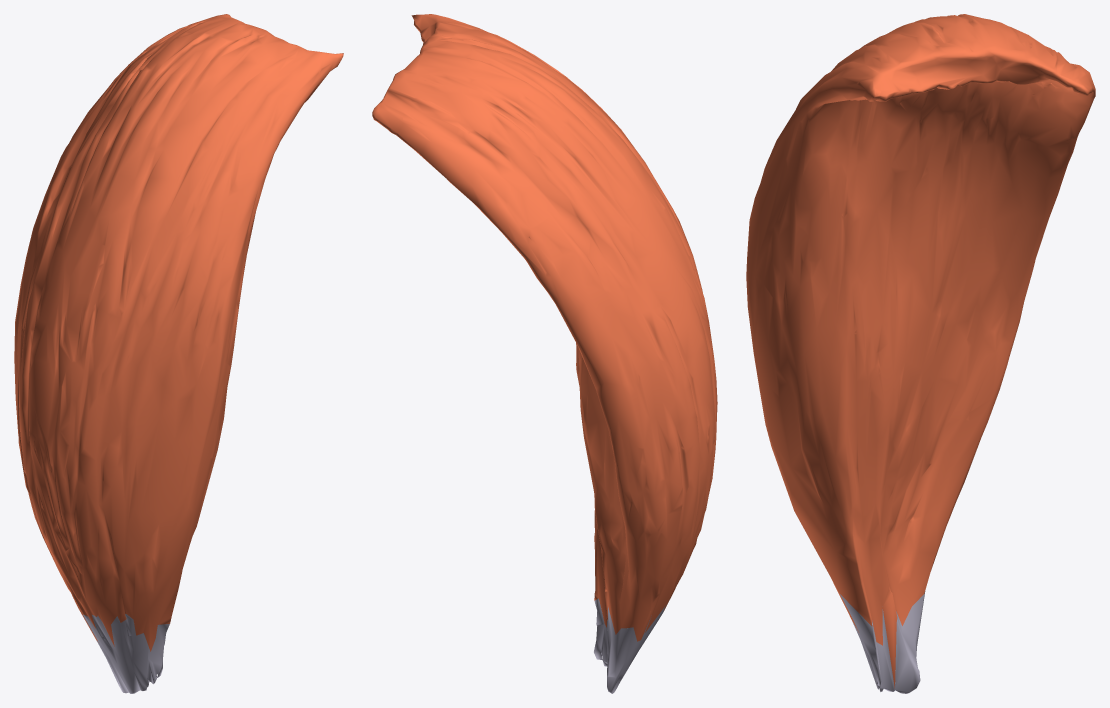
File: Acromial_part_of_deltoid_muscle.r_Generated_Mesh_From_X3D.1014.glb
The picture shows the model from 3 angles, left to right: view 1: azimuth 30°, elevation 25°; view 2: azimuth 150°, elevation 25°; view 3: azimuth 270°, elevation 25°; orthographic projection. The views are drawn at different scales.
Visible parts, largest first — view 1: Acromial_part_of_deltoid_muscle.r_Generated_Mesh_From_X3D.10; view 2: Acromial_part_of_deltoid_muscle.r_Generated_Mesh_From_X3D.10; view 3: Acromial_part_of_deltoid_muscle.r_Generated_Mesh_From_X3D.10.
Part boxes in pixels (x1,y1,x2,y2): Acromial_part_of_deltoid_muscle.r_Generated_Mesh_From_X3D.10: (14,14,343,693); Acromial_part_of_deltoid_muscle.r_Generated_Mesh_From_X3D.10: (372,14,717,693); Acromial_part_of_deltoid_muscle.r_Generated_Mesh_From_X3D.10: (746,14,1095,693).
Size of the model in its own units: 0.0755 by 0.1476 by 0.0634.
